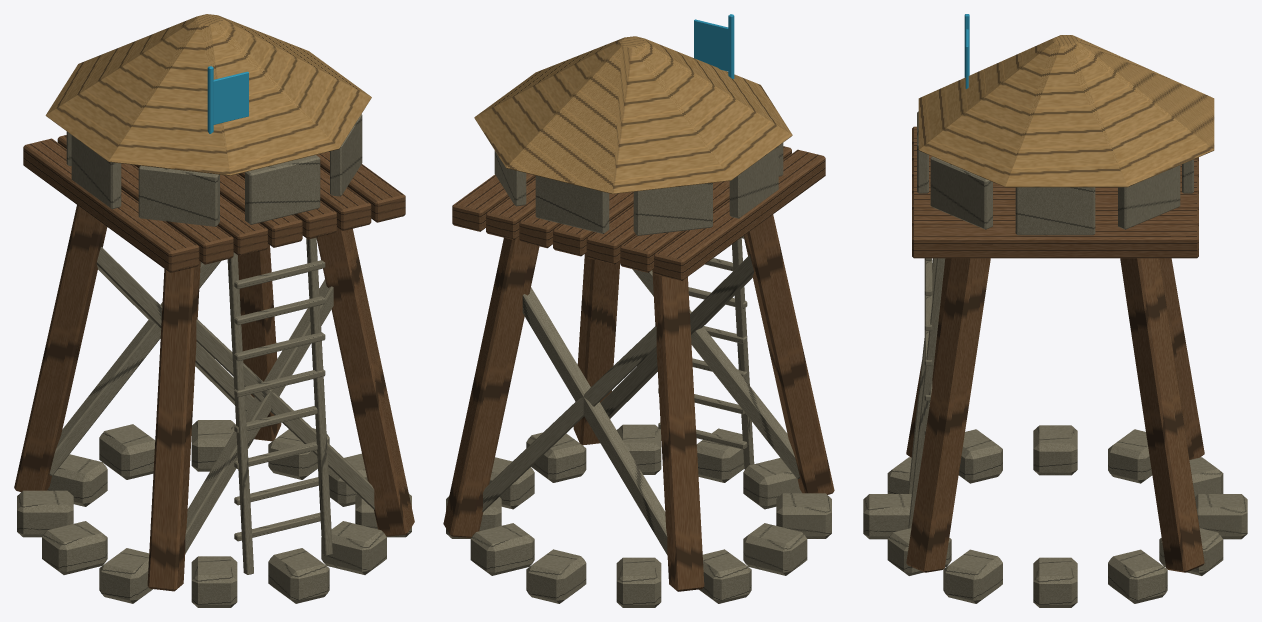
The model's file is edificio-tower-e0-lod0-CR2Qkttm.glb.
3 renders of one model, left to right at view 1: azimuth 30°, elevation 25°; view 2: azimuth 150°, elevation 25°; view 3: azimuth 270°, elevation 25°, orthographic. The views are drawn at different scales.
Visible parts, largest first — view 1: envolvente_torre, team_color; view 2: envolvente_torre, team_color; view 3: envolvente_torre.
Part boxes in pixels (x1,y1,x2,y2): envolvente_torre: (14,14,414,607); team_color: (207,66,248,133); envolvente_torre: (443,36,834,607); team_color: (694,14,734,78); envolvente_torre: (863,35,1247,607).
Bounding box in the file's own units: 33.4 × 49.44 × 34.8.
2 materials, 1 textured.
